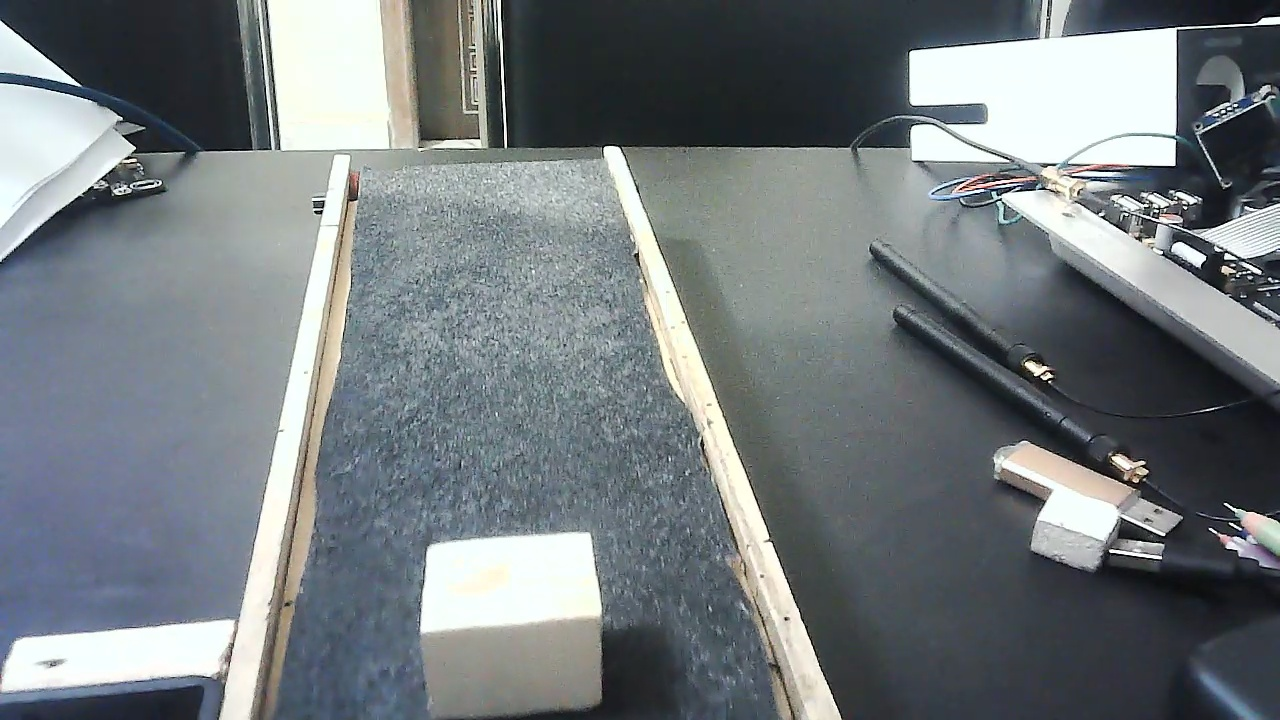Medium: (419, 530, 607, 719)
